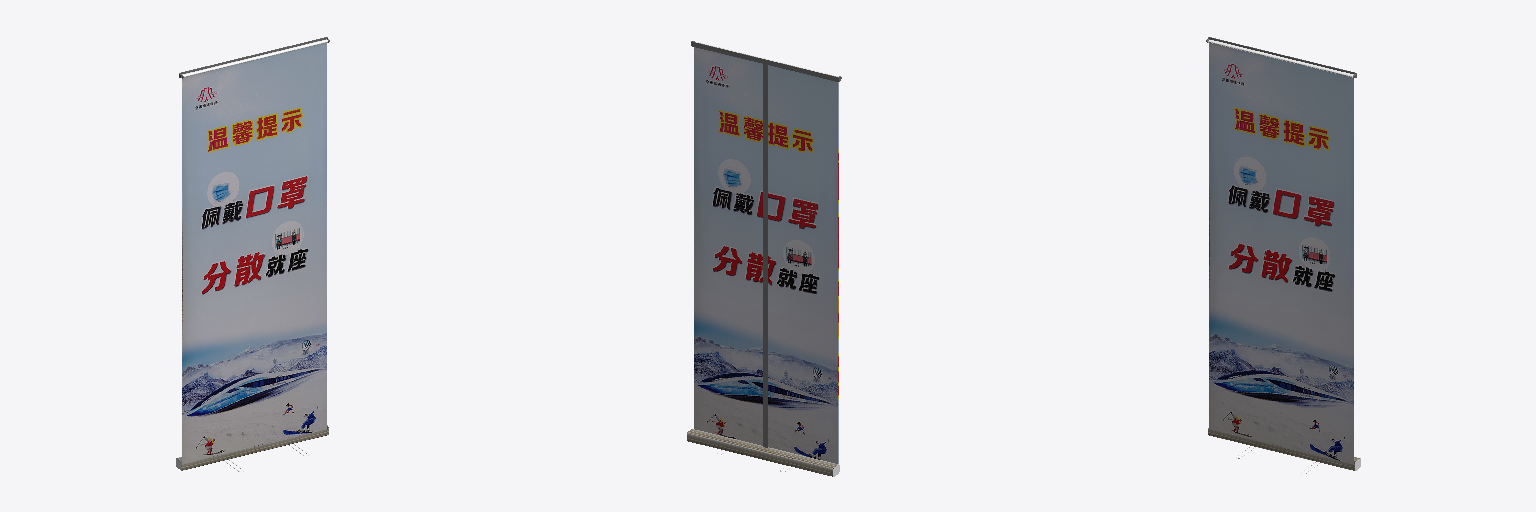
The picture shows the model from 3 angles: view 1: azimuth 30°, elevation 25°; view 2: azimuth 150°, elevation 25°; view 3: azimuth 330°, elevation 25°; orthographic projection.
Parts seen in each view (by area): view 1: Box002; view 2: Box002; view 3: Box002.
Boxes of the visible parts, x1=… form: Box002: x1=176, y1=37, x2=329, y2=471; Box002: x1=687, y1=41, x2=841, y2=476; Box002: x1=1206, y1=37, x2=1360, y2=473.
Bounding box in the file's own units: 80.1 × 205 × 27.26.
Materials: 6 (4 with a texture image).